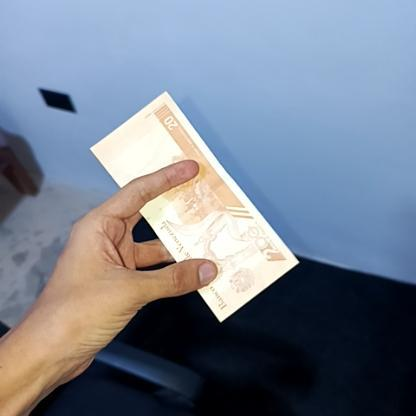twenty-back-vef: (90, 89, 298, 324)
